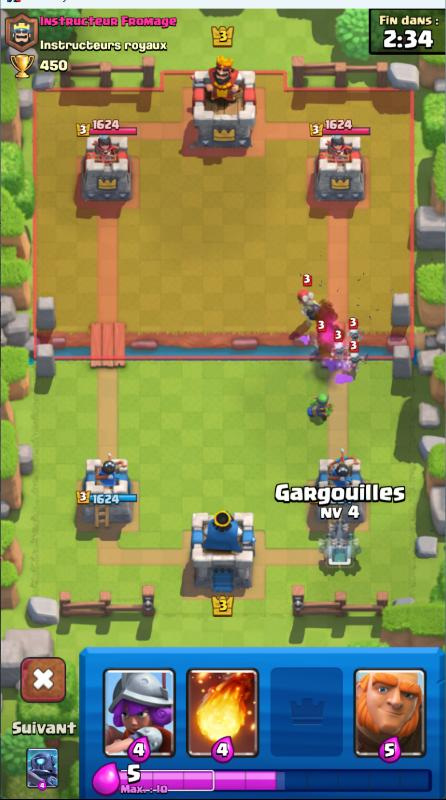gobelin_lances: (308, 390, 335, 424)
squelette: (345, 312, 364, 357), (348, 351, 366, 378), (331, 338, 344, 371), (318, 330, 330, 364)
